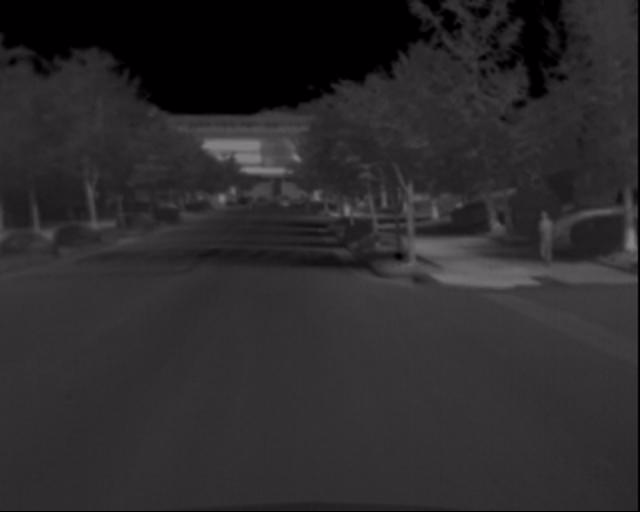person: (535, 211, 560, 268)
